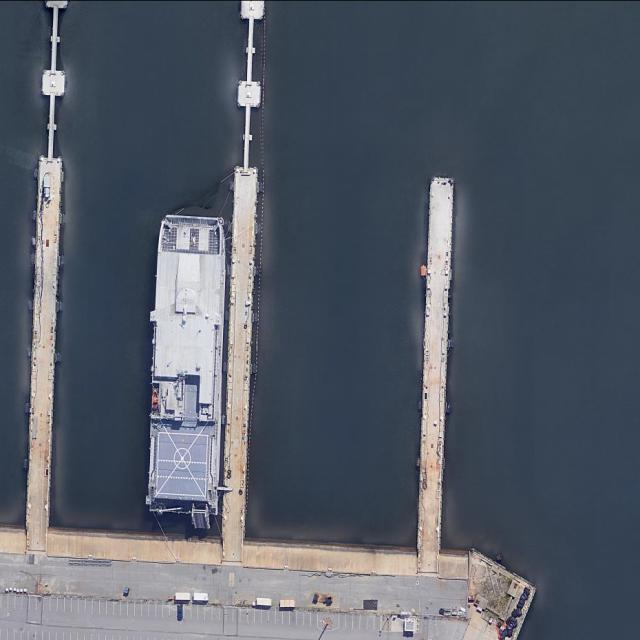Auxiliary Ships: (142, 214, 228, 514)
Dock: (221, 78, 261, 543), (24, 67, 64, 532), (415, 176, 454, 555)
